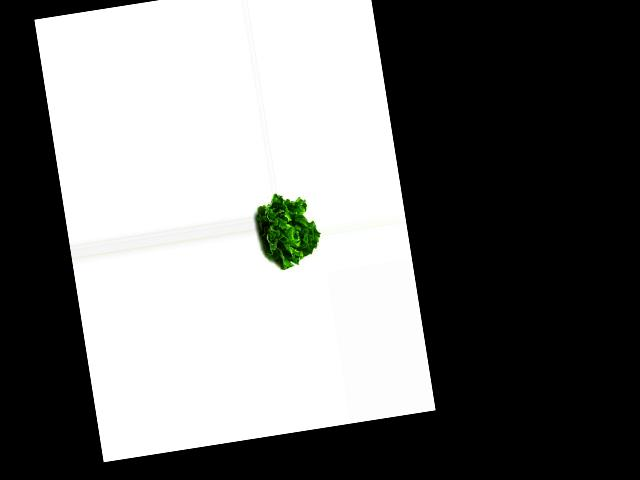lettuce: (251, 188, 324, 271)
